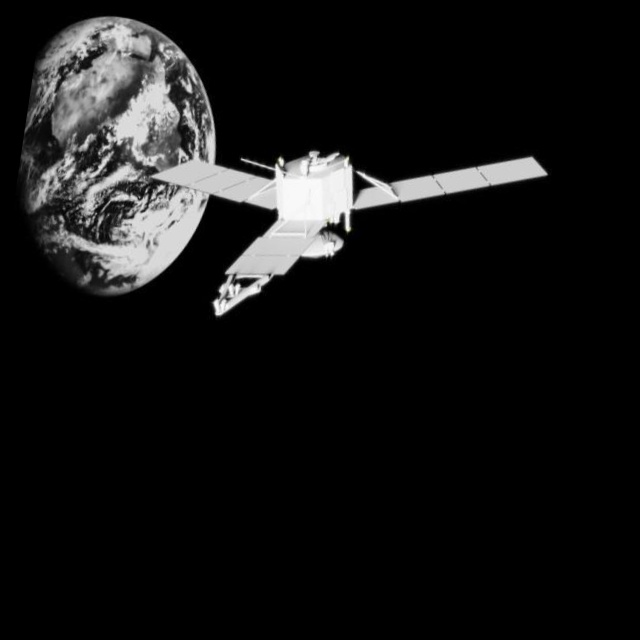satellite: (127, 87, 568, 379)
